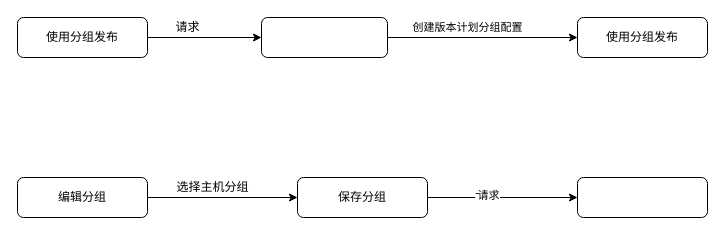
Some shapes in this 725 by 235 pixel diagram are drawn without their labels. The centre of each missing label's shape, as x and y in pixels:
后端修改版本计划分组配置: point 642,197
获取应用默认的分组配置: point 324,37
